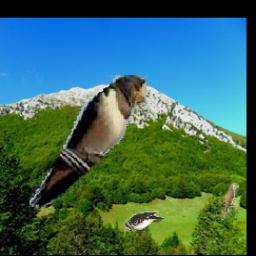Cuckoo: (220, 183, 238, 220)
Swallow: (29, 75, 150, 207)
Woodpecker: (123, 210, 164, 232)
